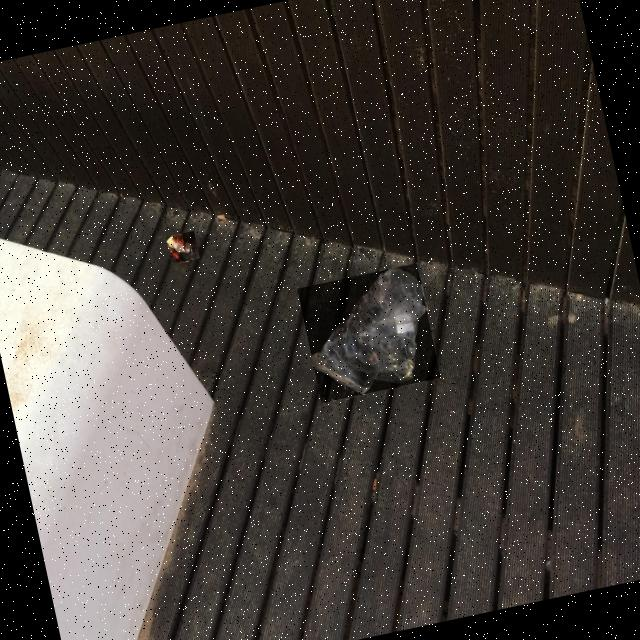Cigarette: (219, 215, 224, 219)
Plastic film: (312, 269, 427, 394), (168, 234, 197, 261)
